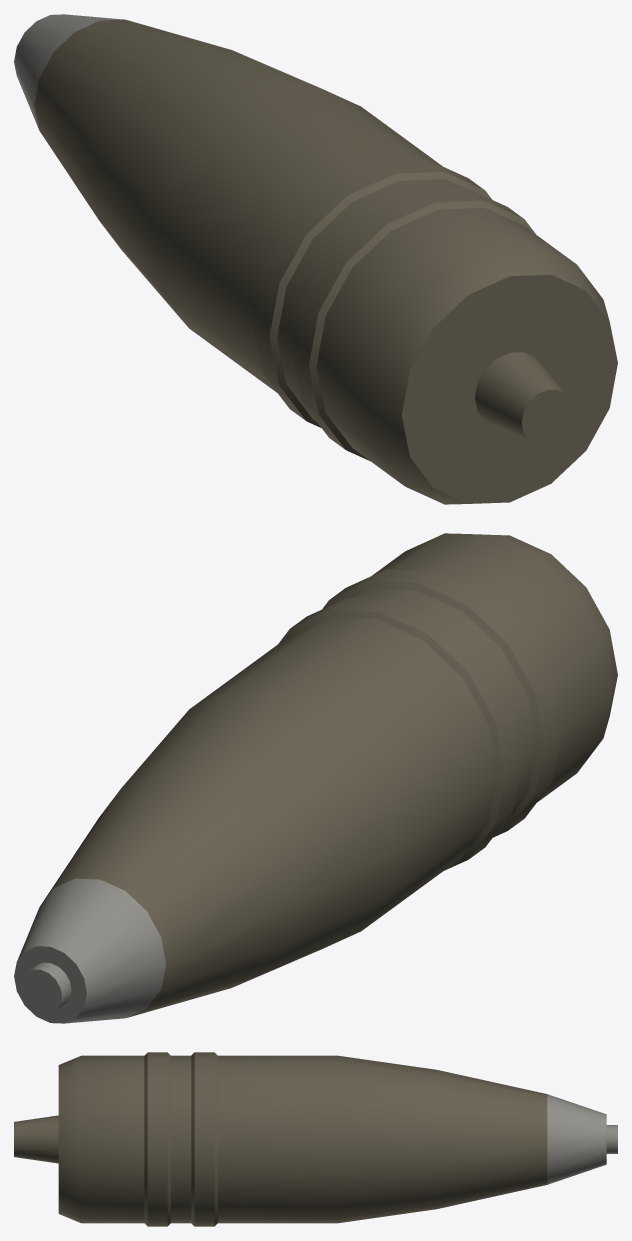
Rendered from ap_bullet_75panther.fbx.
The picture shows the model from 3 angles, top to bottom: view 1: azimuth 30°, elevation 25°; view 2: azimuth 150°, elevation 25°; view 3: azimuth 270°, elevation 25°; orthographic projection. The views are drawn at different scales.
Parts seen in each view (by area): view 1: Cylinder; view 2: Cylinder; view 3: Cylinder.
Part boxes in pixels (x1,y1,x2,y2): Cylinder: (14,14,617,504); Cylinder: (14,533,617,1023); Cylinder: (14,1052,617,1226).
Size of the model in its own units: 78 by 78 by 270.
